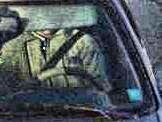seatbelt: (42, 18, 99, 63)
